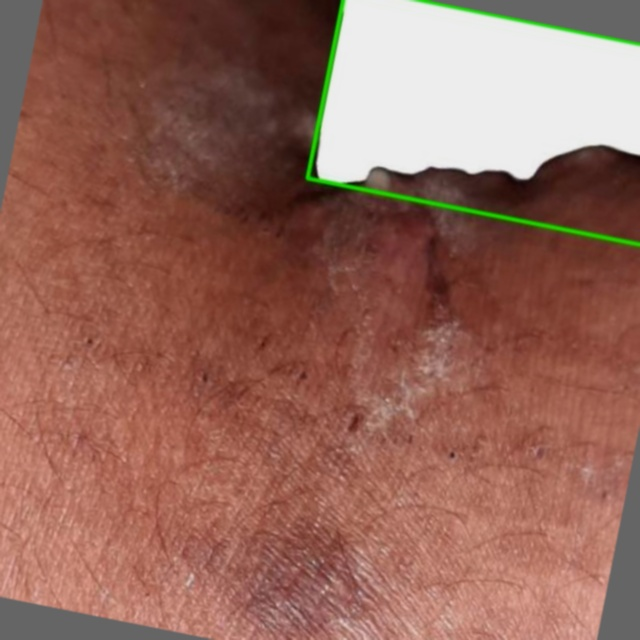Contact Dermatitis: (307, 0, 639, 244)
